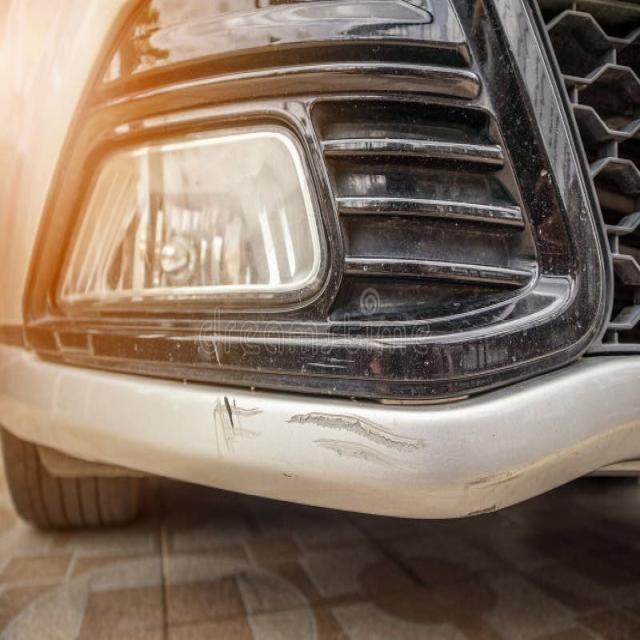scratch: (282, 410, 428, 472), (210, 393, 264, 463), (462, 465, 522, 493), (459, 500, 498, 518)
